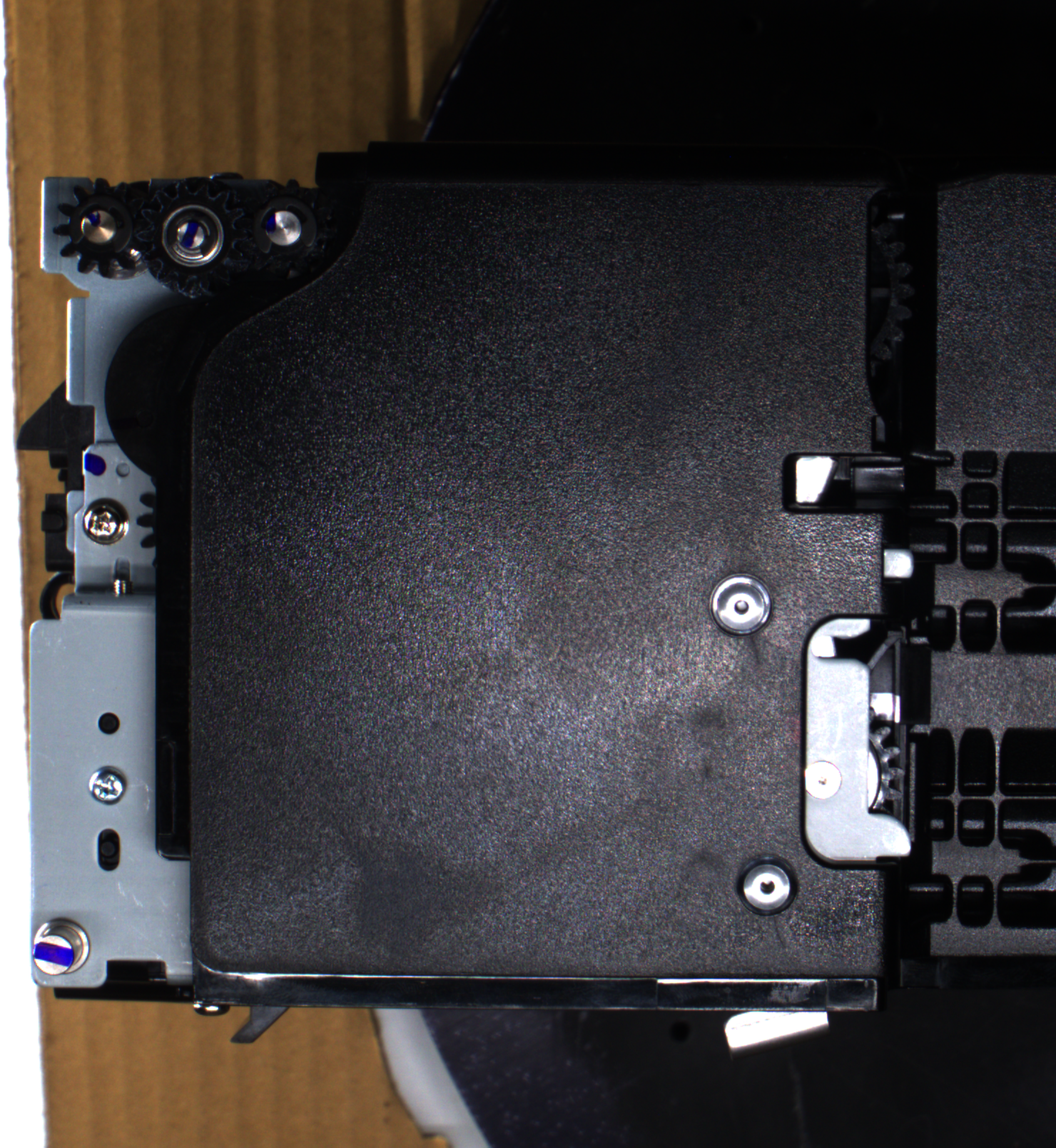centre_pin_presence: (719, 994, 835, 1059)
centre_plate_presence: (792, 609, 923, 876)
centre_screw_presence: (705, 566, 777, 644), (729, 846, 802, 918)
gear1_presence: (52, 177, 153, 281)
gear2_presence: (138, 177, 251, 299)
gear3_presence: (233, 177, 333, 280)
side_screw_presence: (79, 495, 132, 547), (84, 763, 129, 806)
slanting_pin_presence: (27, 913, 97, 983)
